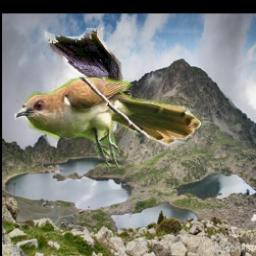Crow: (46, 29, 133, 106)
Cuckoo: (15, 77, 202, 167)
